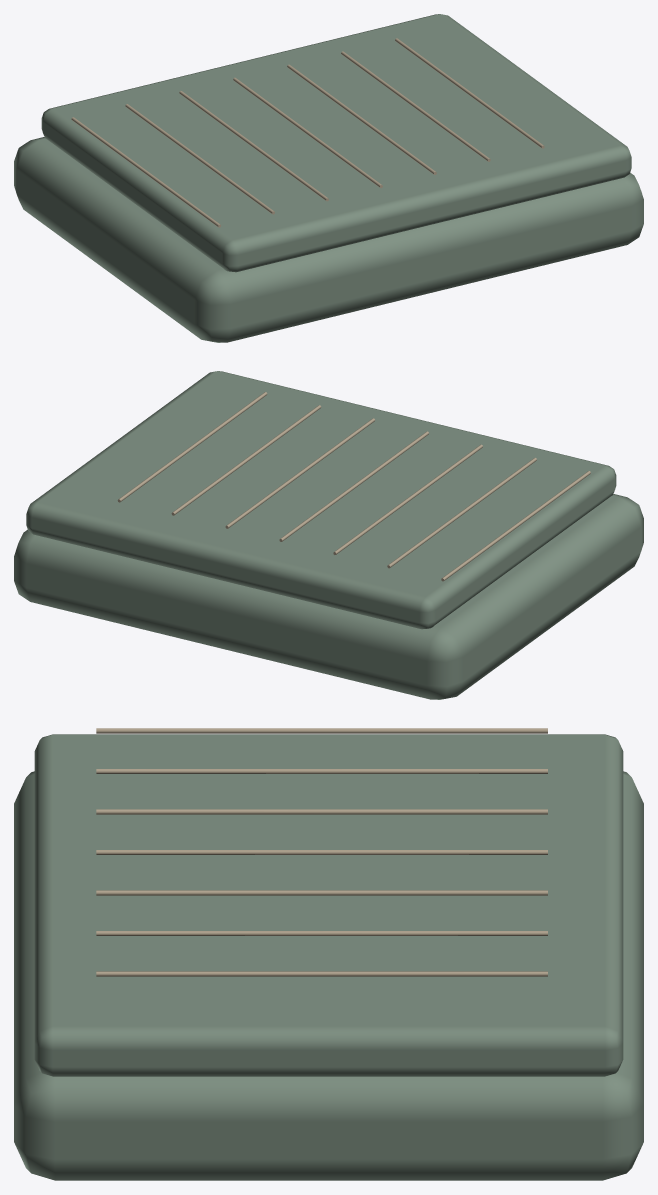
Rendered from fold-ribbed-balanced-bee2708d74.glb.
The picture shows the model from 3 angles, top to bottom: view 1: azimuth 30°, elevation 25°; view 2: azimuth 150°, elevation 25°; view 3: azimuth 270°, elevation 25°; orthographic projection. The views are drawn at different scales.
Visible parts, largest first — view 1: sage, sole; view 2: sage, sole; view 3: sage, sole.
Part boxes in pixels (<box>): sage: <box>14,14,643,342</box>; sole: <box>71,38,544,227</box>; sage: <box>14,371,643,699</box>; sole: <box>117,392,590,581</box>; sage: <box>14,734,643,1180</box>; sole: <box>96,728,547,976</box>.
Bounding box in the file's own units: 0.29 × 0.065 × 0.23.
